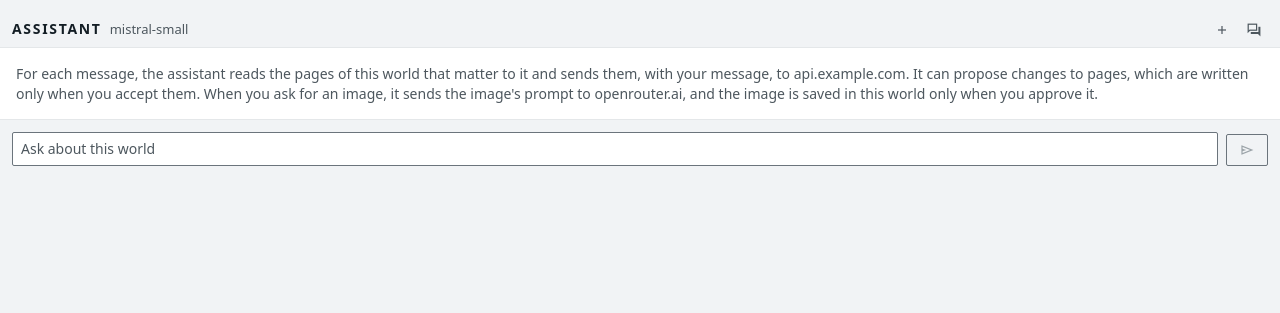
the context disclosure › says when no pages were read, how many earlier messages were left out, and that the world was being indexed
Step 1. Type "Hello" into the text box named "Message" → (615,149), box 12,132 -> 1218,166
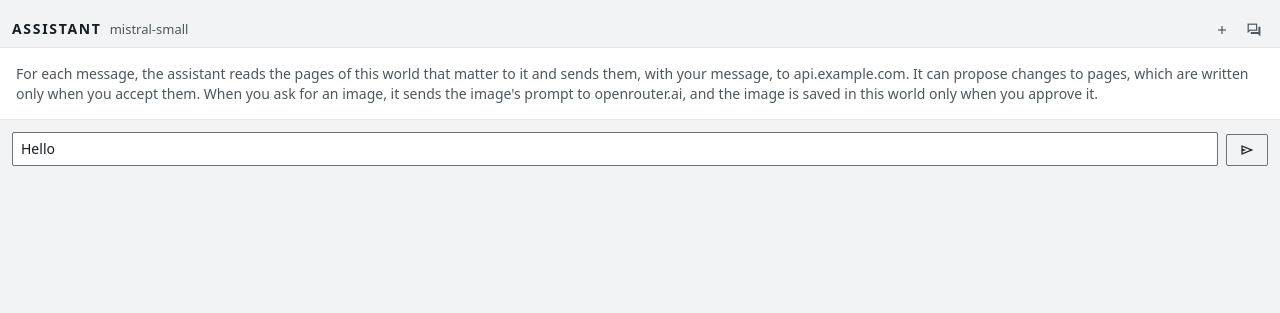
Step 2. Press Enter in the text box named "Message", box 12,132 -> 1218,166
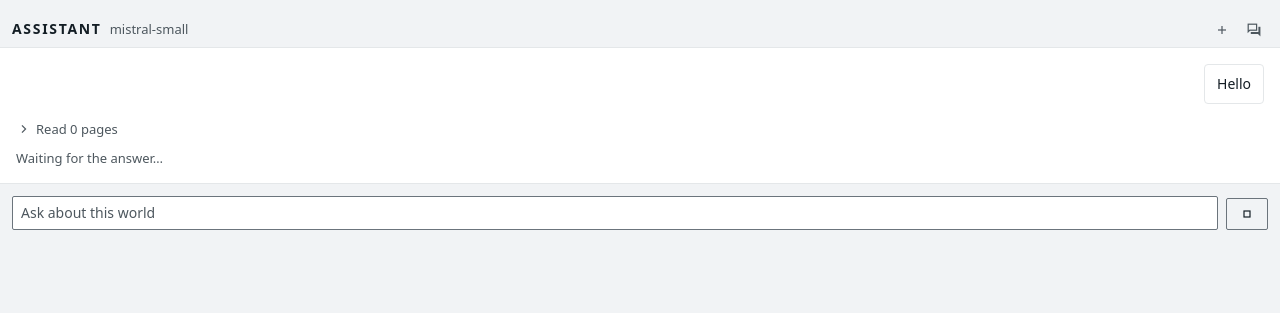
Step 3. Click the button "Read 0 pages" → (67,129), box 16,120 -> 118,138
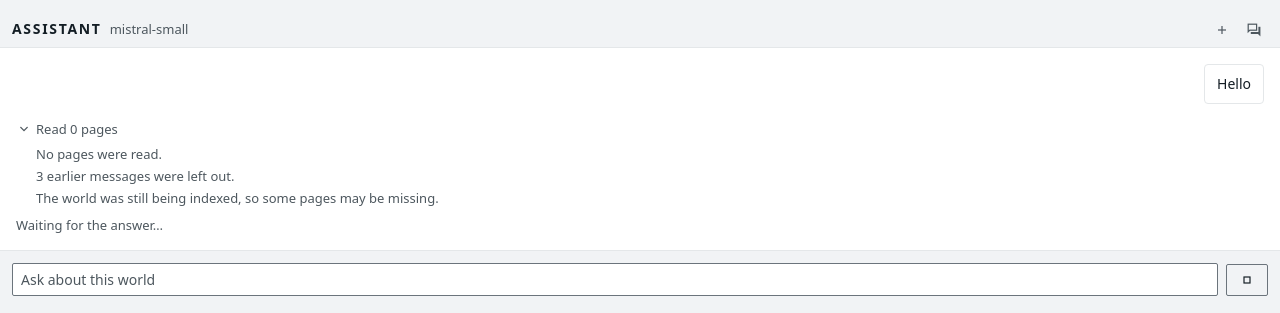
Result: the text "No pages were read." is shown at 36,145 -> 162,163
Result: the text "3 earlier messages were left out." is shown at 36,167 -> 234,185
Result: the text "The world was still being indexed, so some pages may be missing." is shown at 36,189 -> 439,207
